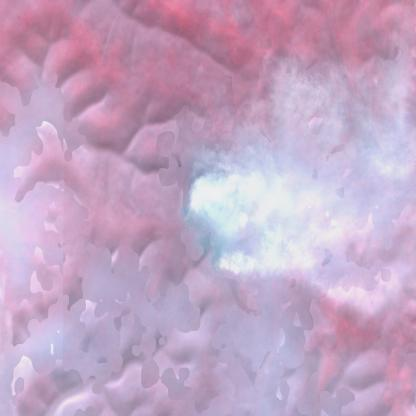fire: (178, 177, 234, 272)
